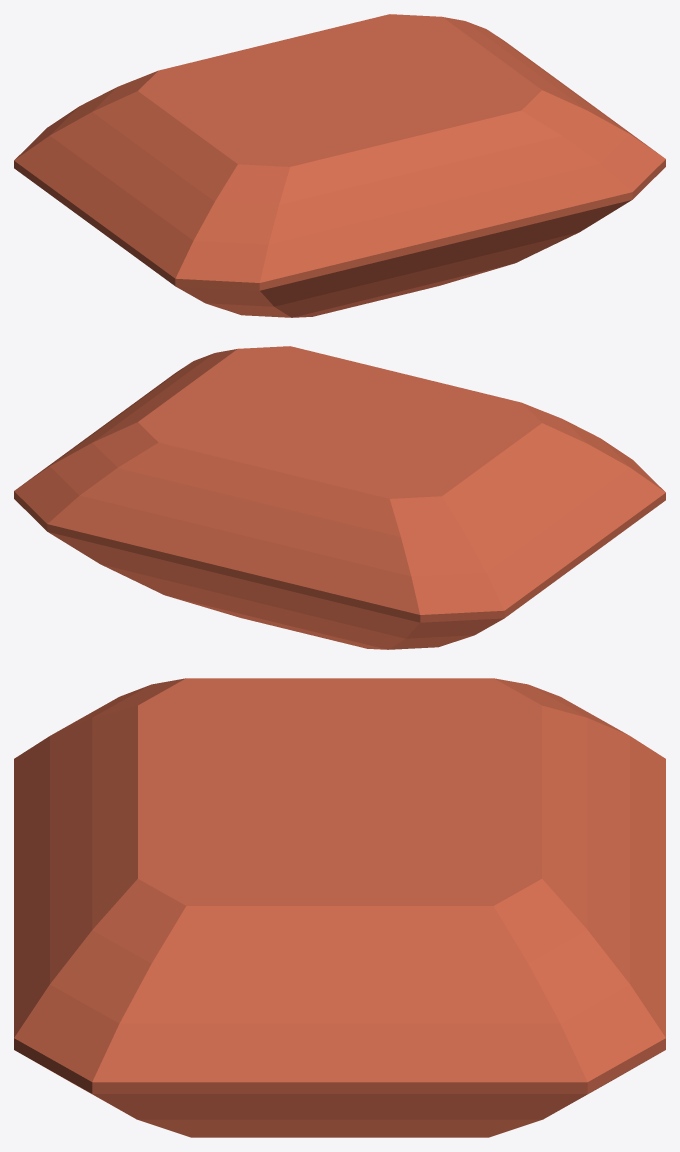
File: panna.glb
3 views of the same model, one above another, from view 1: azimuth 30°, elevation 25°; view 2: azimuth 150°, elevation 25°; view 3: azimuth 270°, elevation 25° (orthographic). The views are drawn at different scales.
Parts seen in each view (by area): view 1: stone; view 2: stone; view 3: stone.
Boxes of the visible parts, <box> form: stone: <box>14,14,665,317</box>; stone: <box>14,346,665,649</box>; stone: <box>14,678,665,1137</box>.
Size of the model in its own units: 0.8 by 0.2994 by 0.6.
